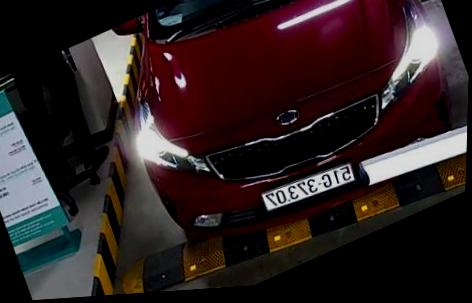License_Plate: (259, 154, 356, 214)
